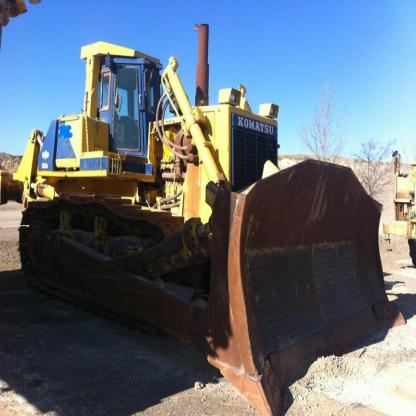bull_dozer/loader/grader: (15, 25, 406, 415)
